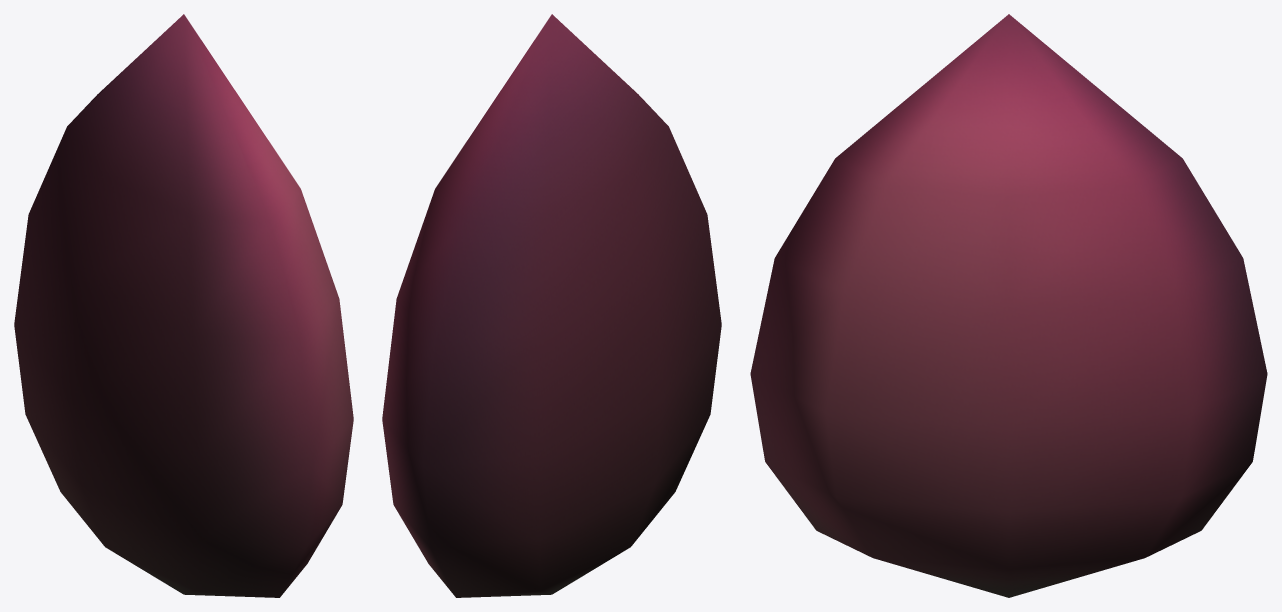
The model's file is Seed2.fbx.
The picture shows the model from 3 angles, left to right: view 1: azimuth 30°, elevation 25°; view 2: azimuth 150°, elevation 25°; view 3: azimuth 270°, elevation 25°; orthographic projection.
Parts seen in each view (by area): view 1: Seed2; view 2: Seed2; view 3: Seed2.
Part boxes in pixels (box(x1,y1,x2,y2)): Seed2: box(14, 14, 353, 597); Seed2: box(382, 14, 721, 597); Seed2: box(750, 14, 1267, 597).
Size of the model in its own units: 12.91 by 32.09 by 25.76.
Materials: 1 (1 with a texture image).
